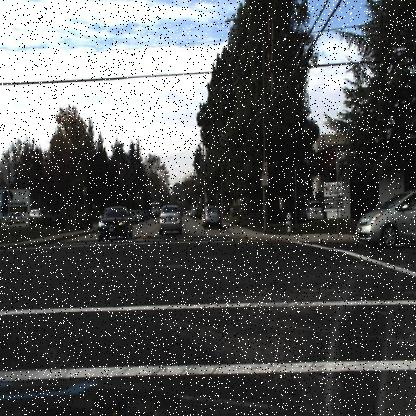car: (350, 187, 416, 259), (95, 202, 135, 245), (157, 201, 187, 238), (300, 191, 328, 223), (199, 200, 225, 230), (27, 201, 48, 230), (26, 205, 54, 225)
